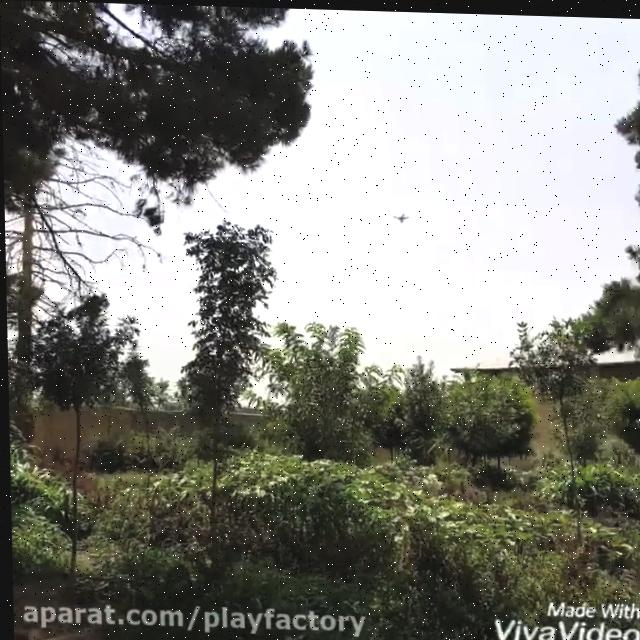drone: (388, 204, 413, 222)
